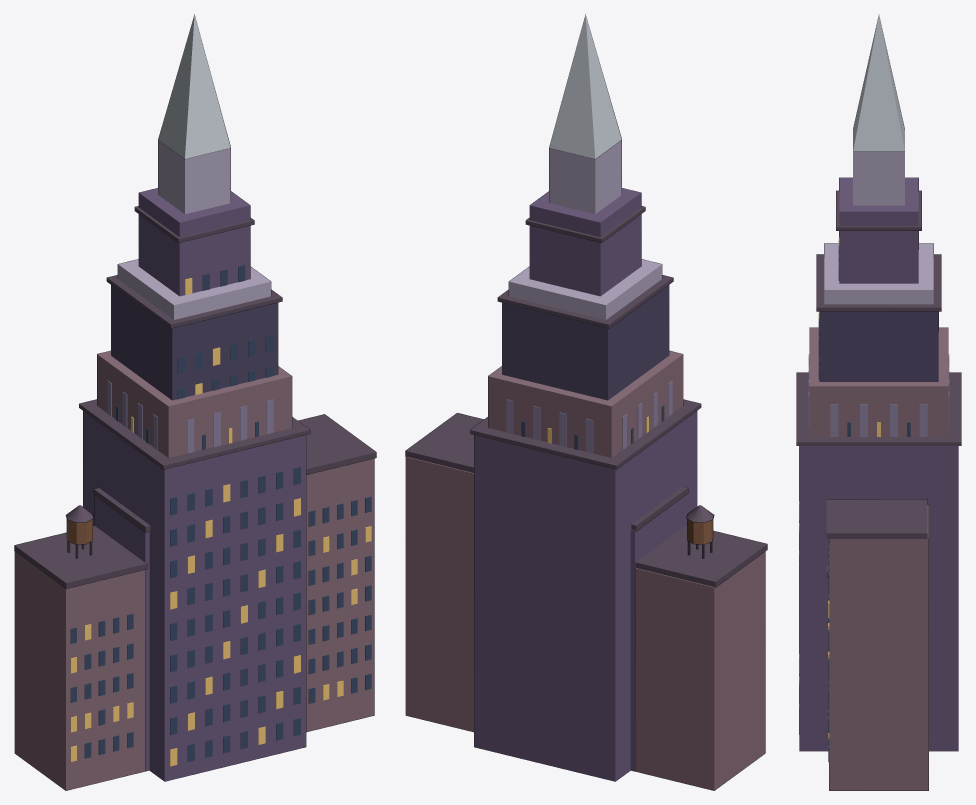
The model's file is fps-kit-city2.glb.
The picture shows the model from 3 angles, left to right: view 1: azimuth 30°, elevation 25°; view 2: azimuth 150°, elevation 25°; view 3: azimuth 270°, elevation 25°; orthographic projection. The views are drawn at different scales.
Visible parts, largest first — view 1: KIT_CITY2_Backdrop_Tower, KIT_CITY2_Backdrop_Block, KIT_CITY2_Backdrop_Spire; view 2: KIT_CITY2_Backdrop_Tower, KIT_CITY2_Backdrop_Block, KIT_CITY2_Backdrop_Spire; view 3: KIT_CITY2_Backdrop_Tower, KIT_CITY2_Backdrop_Block, KIT_CITY2_Backdrop_Spire.
Part boxes in pixels (bbox=[...]): KIT_CITY2_Backdrop_Tower: bbox=[79, 206, 310, 781]; KIT_CITY2_Backdrop_Block: bbox=[14, 414, 376, 790]; KIT_CITY2_Backdrop_Spire: bbox=[97, 14, 292, 457]; KIT_CITY2_Backdrop_Tower: bbox=[470, 206, 701, 781]; KIT_CITY2_Backdrop_Block: bbox=[405, 413, 767, 790]; KIT_CITY2_Backdrop_Spire: bbox=[488, 14, 683, 457]; KIT_CITY2_Backdrop_Tower: bbox=[796, 190, 961, 751]; KIT_CITY2_Backdrop_Block: bbox=[826, 499, 928, 790]; KIT_CITY2_Backdrop_Spire: bbox=[808, 15, 949, 436].
Size of the model in its own units: 35.2 by 78.11 by 16.64.
Materials: 1 (1 with a texture image).
